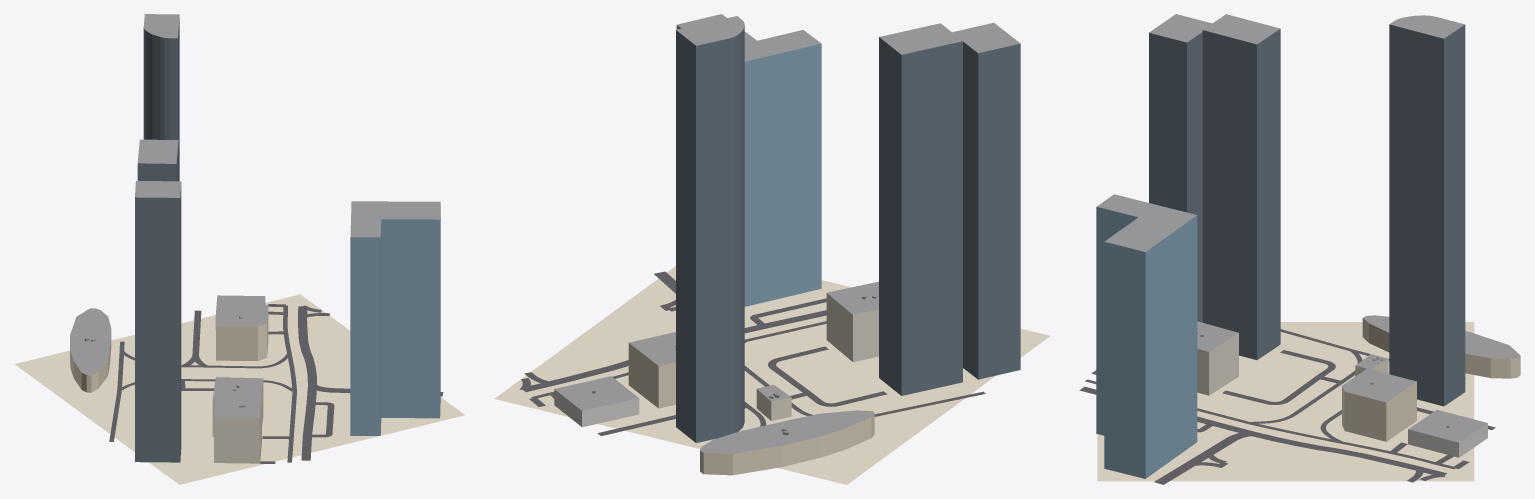
The model's file is tile_-1_-5_far.glb.
3 renders of one model, left to right at view 1: azimuth 30°, elevation 25°; view 2: azimuth 150°, elevation 25°; view 3: azimuth 270°, elevation 25°, orthographic. The views are drawn at different scales.
Visible parts, largest first — view 1: nature_ground, buildings_glass_blue, buildings_glass_dark, buildings_roof, roads_asphalt, buildings_sandstone, buildings_concrete_warm; view 2: buildings_glass_dark, nature_ground, buildings_glass_blue, buildings_roof, buildings_sandstone, roads_asphalt, buildings_concrete_warm, buildings_concrete_light; view 3: buildings_glass_dark, nature_ground, buildings_glass_blue, buildings_roof, roads_asphalt, buildings_sandstone, buildings_concrete_warm, buildings_concrete_light.
Boxes of the visible parts, x1,y1,x2,y2 form: nature_ground: (14,294,465,484); buildings_glass_blue: (350,206,440,435); buildings_glass_dark: (135,18,181,462); buildings_roof: (70,14,440,417); roads_asphalt: (109,304,443,463); buildings_sandstone: (70,309,268,392); buildings_concrete_warm: (212,380,263,463); buildings_glass_dark: (676,25,1020,442); nature_ground: (494,266,1050,484); buildings_glass_blue: (676,25,821,306); buildings_roof: (555,14,1020,453); buildings_sandstone: (628,343,874,475); roads_asphalt: (519,271,985,435); buildings_concrete_warm: (756,293,878,420); buildings_concrete_light: (554,389,639,427); buildings_glass_dark: (1149,24,1465,406); nature_ground: (1097,322,1474,481); buildings_glass_blue: (1096,207,1197,478); buildings_roof: (1097,14,1520,442); roads_asphalt: (1079,329,1495,484); buildings_sandstone: (1342,318,1520,441); buildings_concrete_warm: (1197,333,1388,395); buildings_concrete_light: (1408,423,1487,457).
Bounding box in the file's own units: 265 × 269 × 293.
